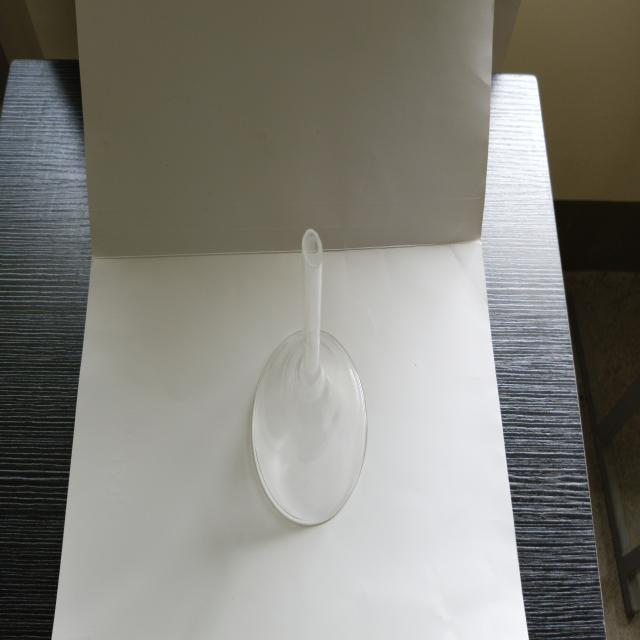funnel: (248, 223, 376, 530)
